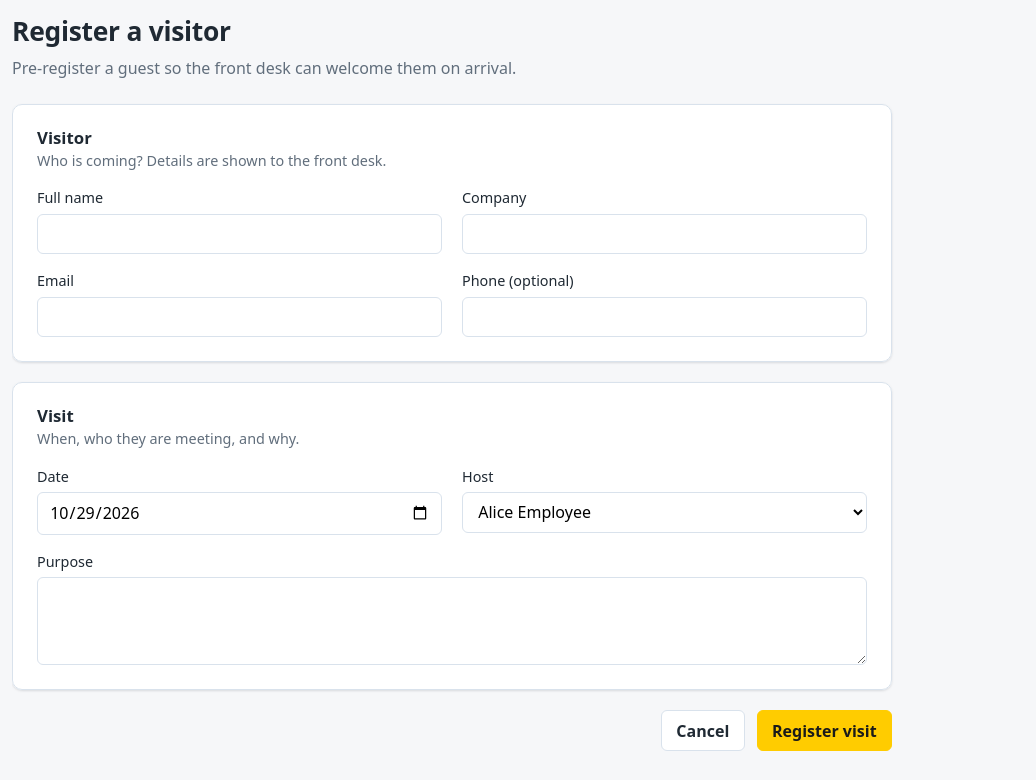
RegisterVisitPage › submits the visit and opens its detail page
This screenshot has width=1036, height=780.
Type "Victor Visitor" into the field labelled "Full name" at (240, 234), box [37,214,442,254]
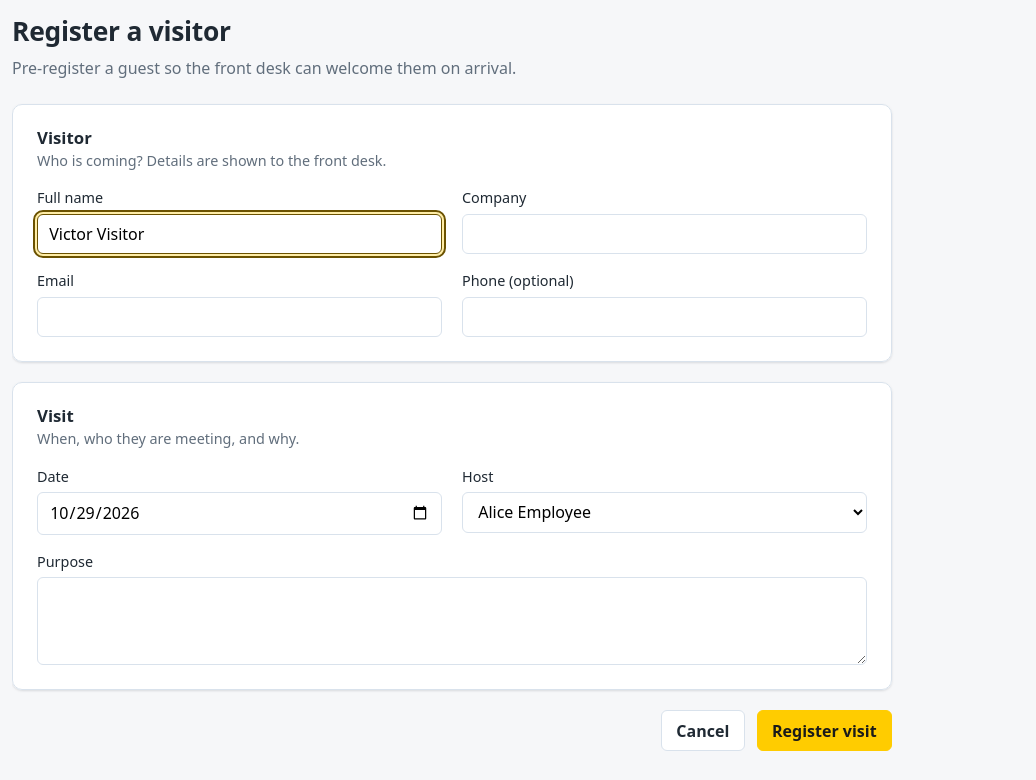
Type "victor@example.com" into the field labelled "Email" at (240, 317), box [37,297,442,337]
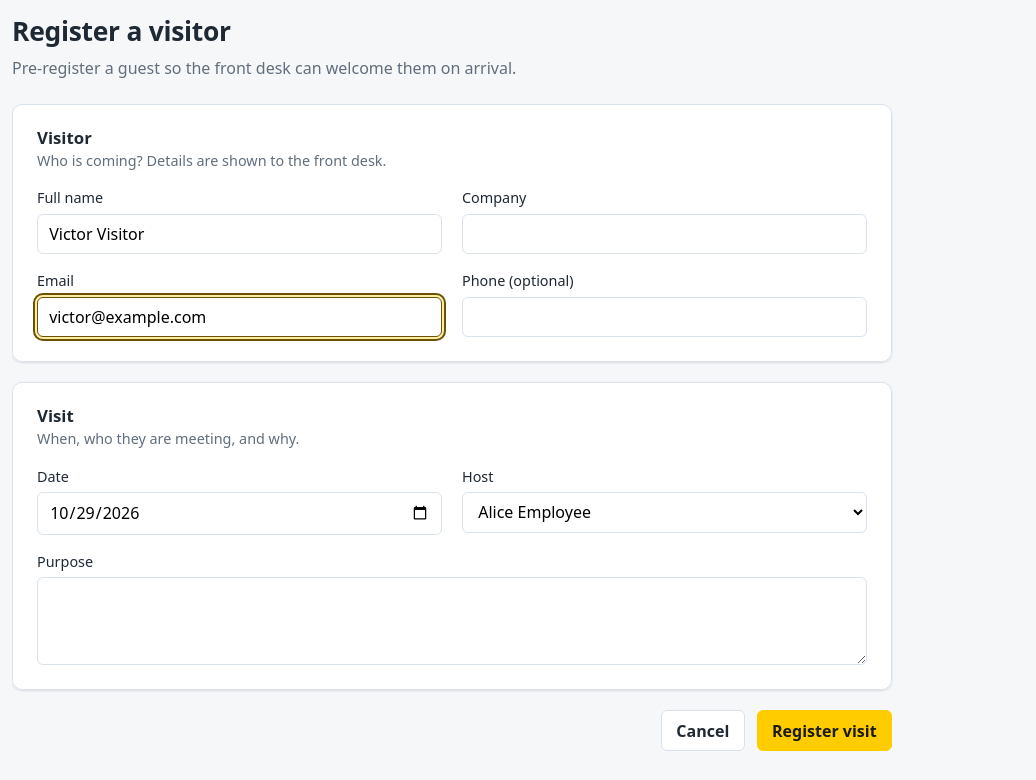
Type "Globex" into the field labelled "Company" at (664, 234), box [462,214,867,254]
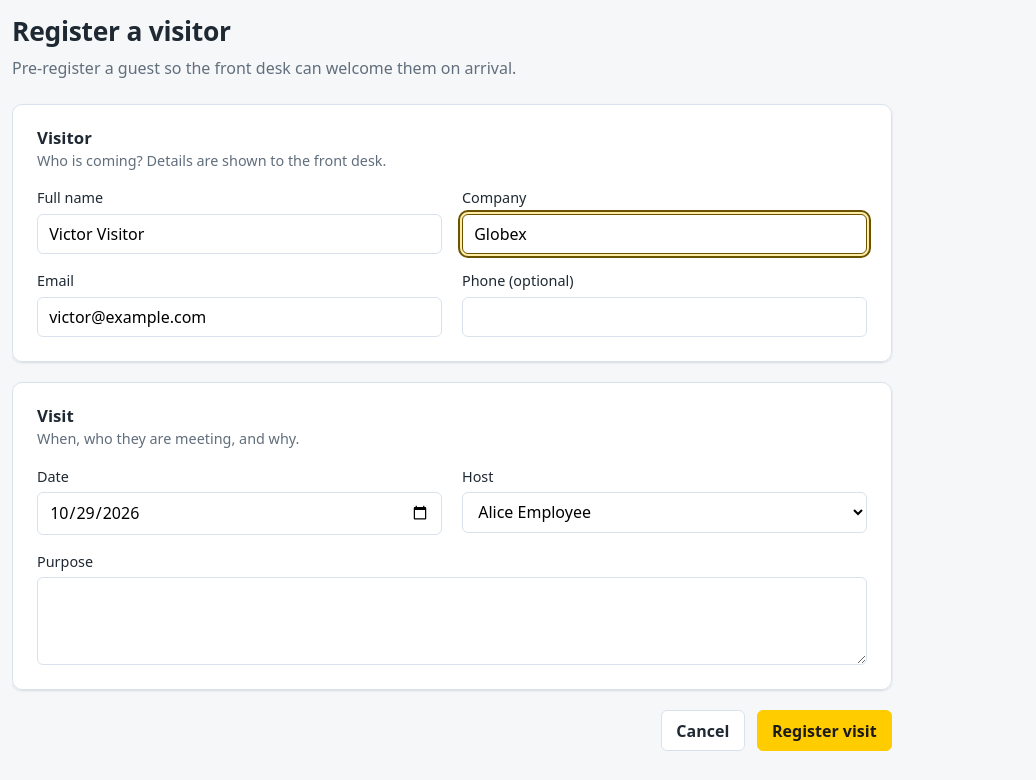
Type "Quarterly review" into the text box labelled "Purpose" at (452, 621), box [37,577,867,665]
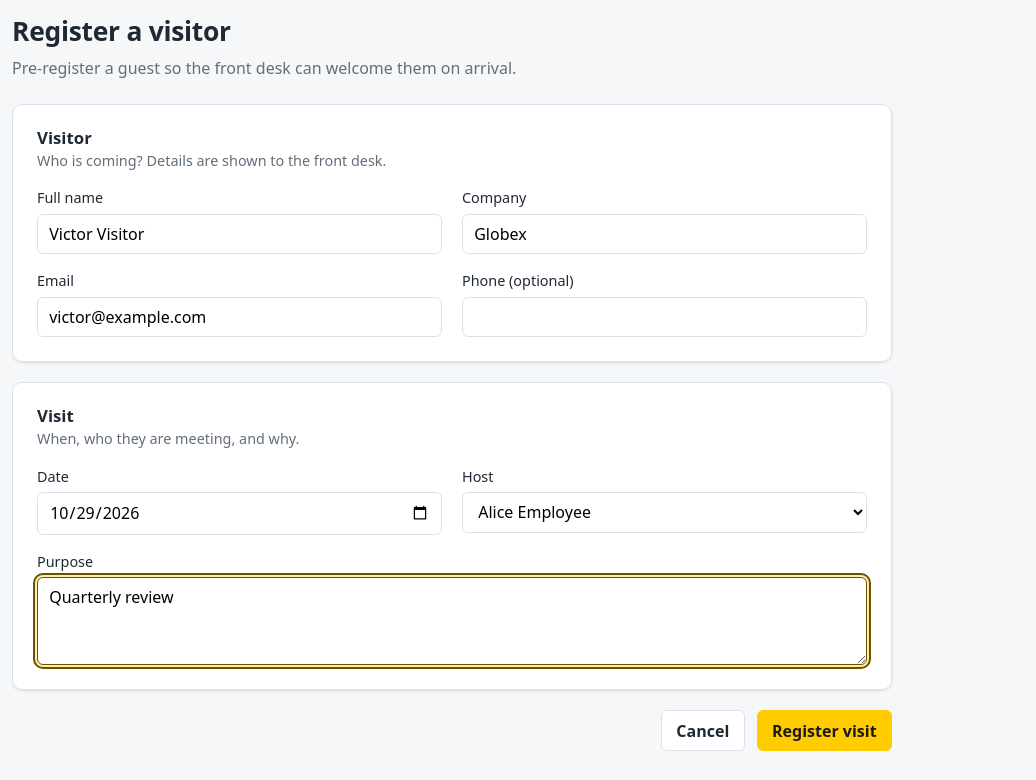
Click the button "Register visit" at (824, 730), box [757,710,892,751]
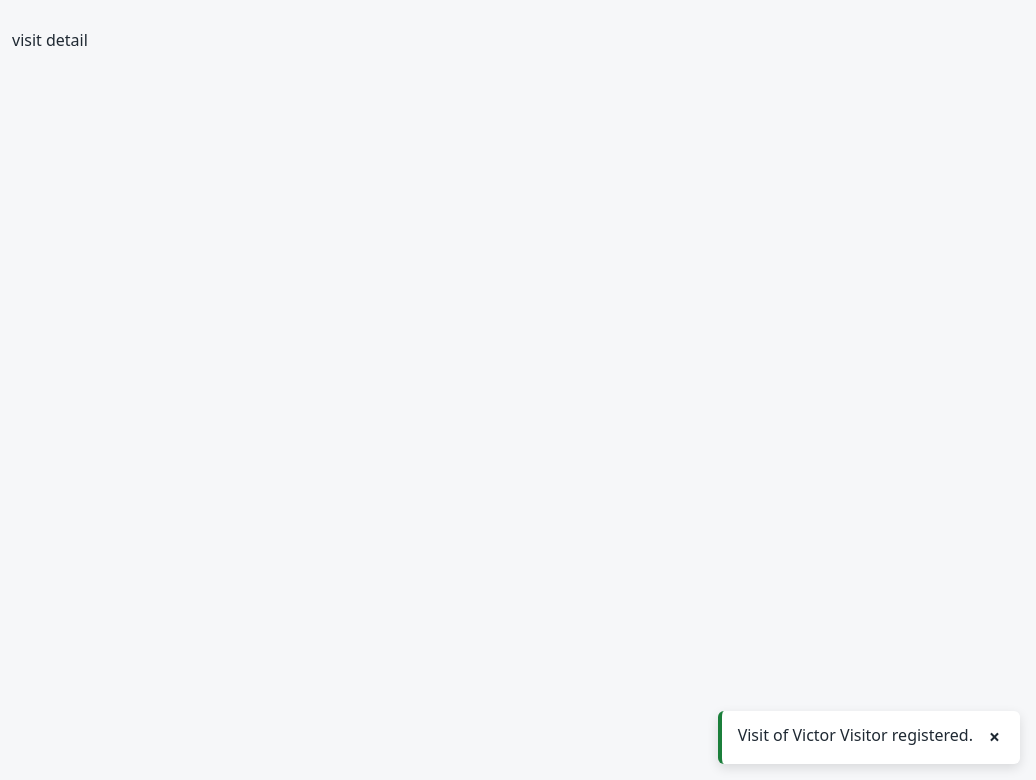
expect the text "visit detail" is shown: met, box [12,29,88,51]
